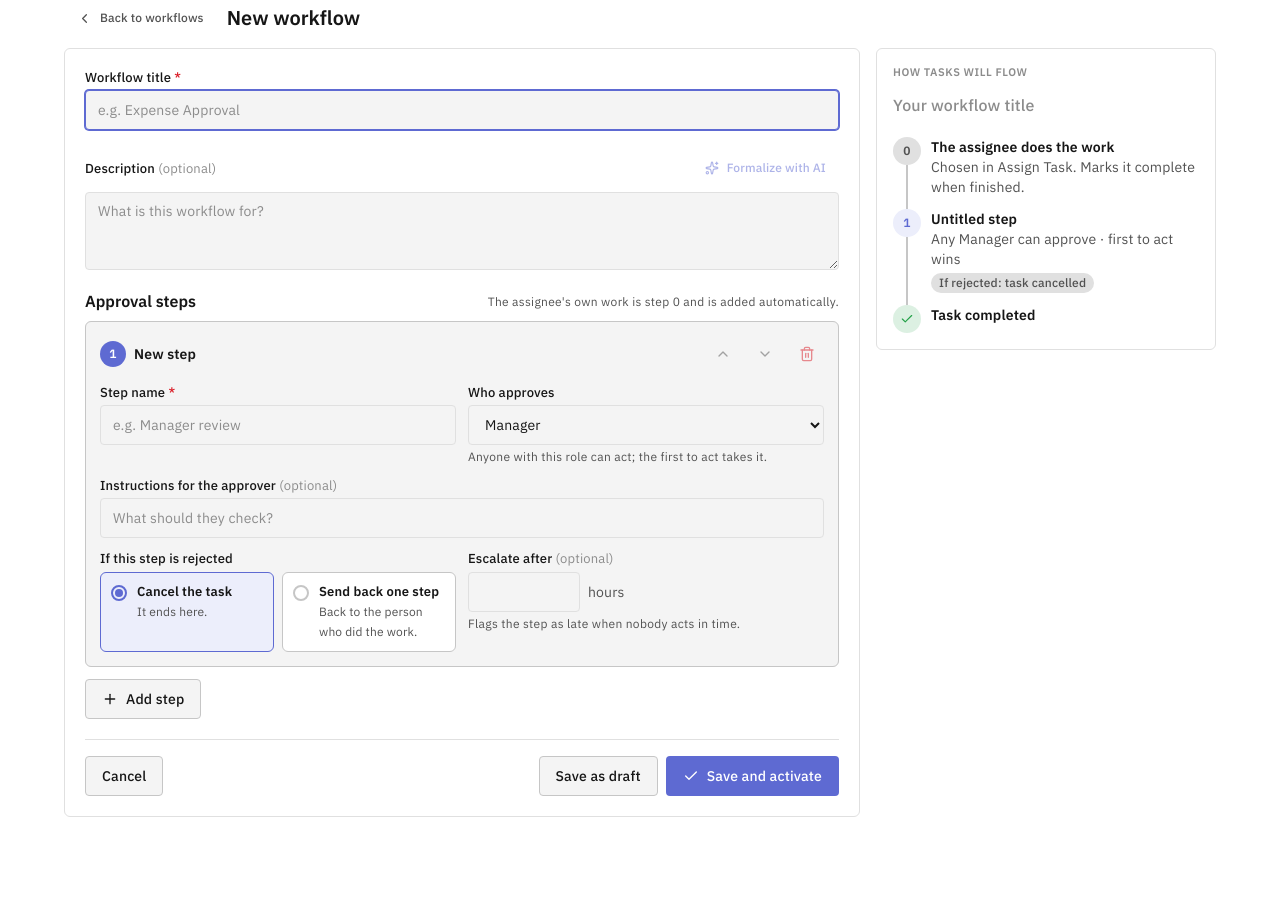
Test case: Workflow builder › TC-B02: add, reorder and remove steps; a new step takes focus in its name field
Expected: the form is shown, [64,48,860,817]
Type "First" into the field labelled "Step name *" at (278, 425), box [100,405,456,445]
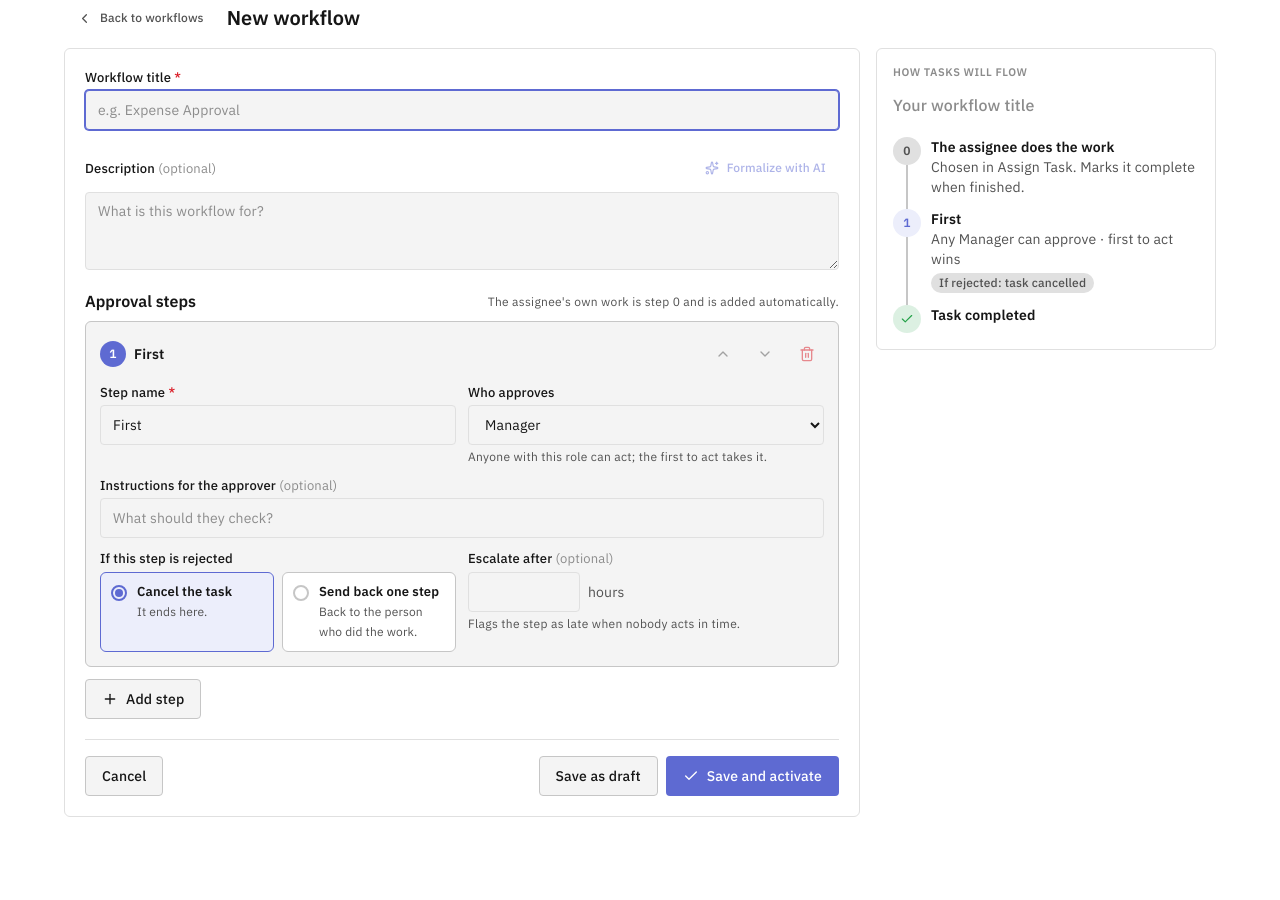
Click the button "Add step" at (143, 699), box [85,679,201,719]
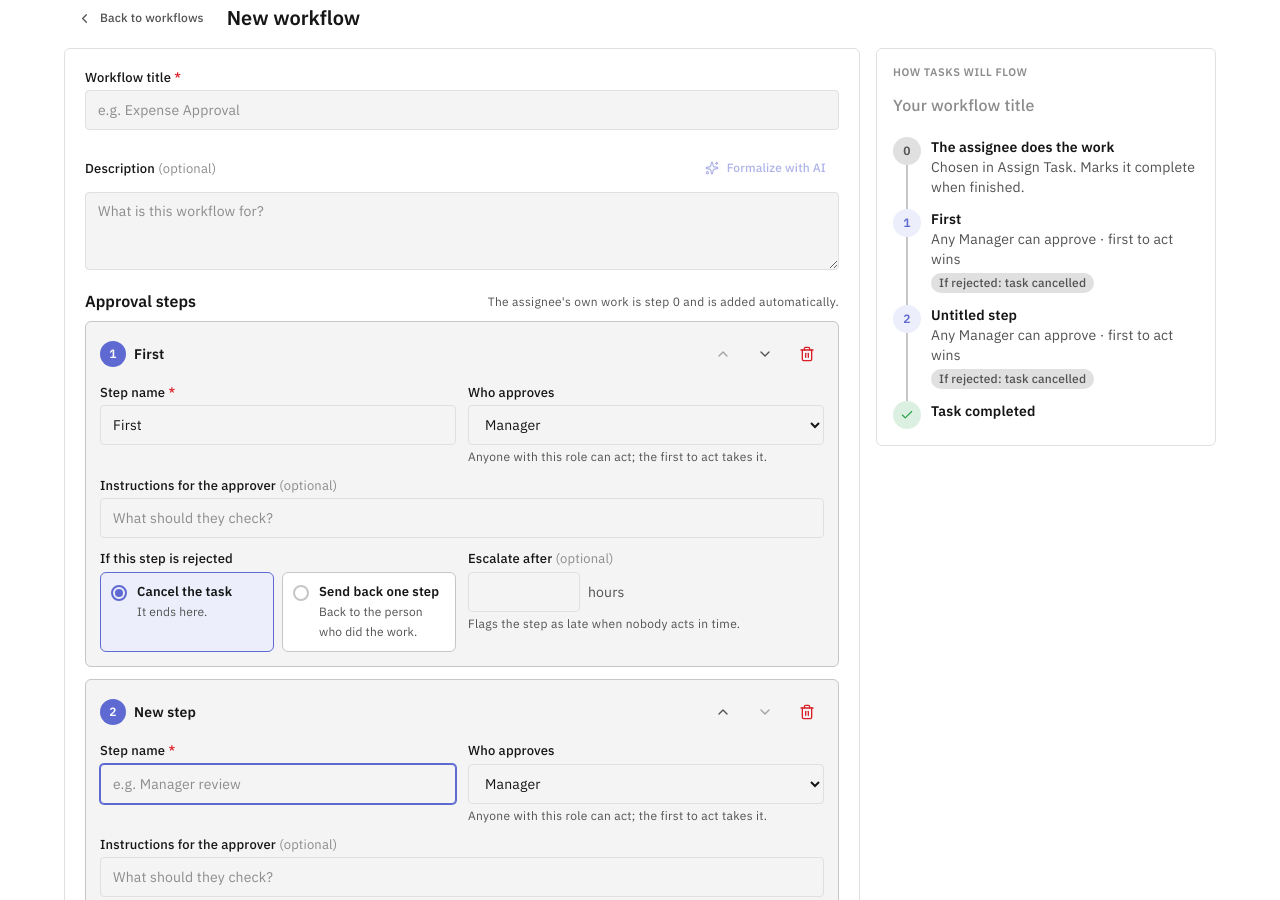
Now the number of fields labelled "Step name *" is 2
Now the 2nd dropdown labelled "Who approves" shows "Manager", box [468,764,824,804]
Type "Second" into the field labelled "Step name *" below "New step" at (278, 784), box [100,764,456,804]
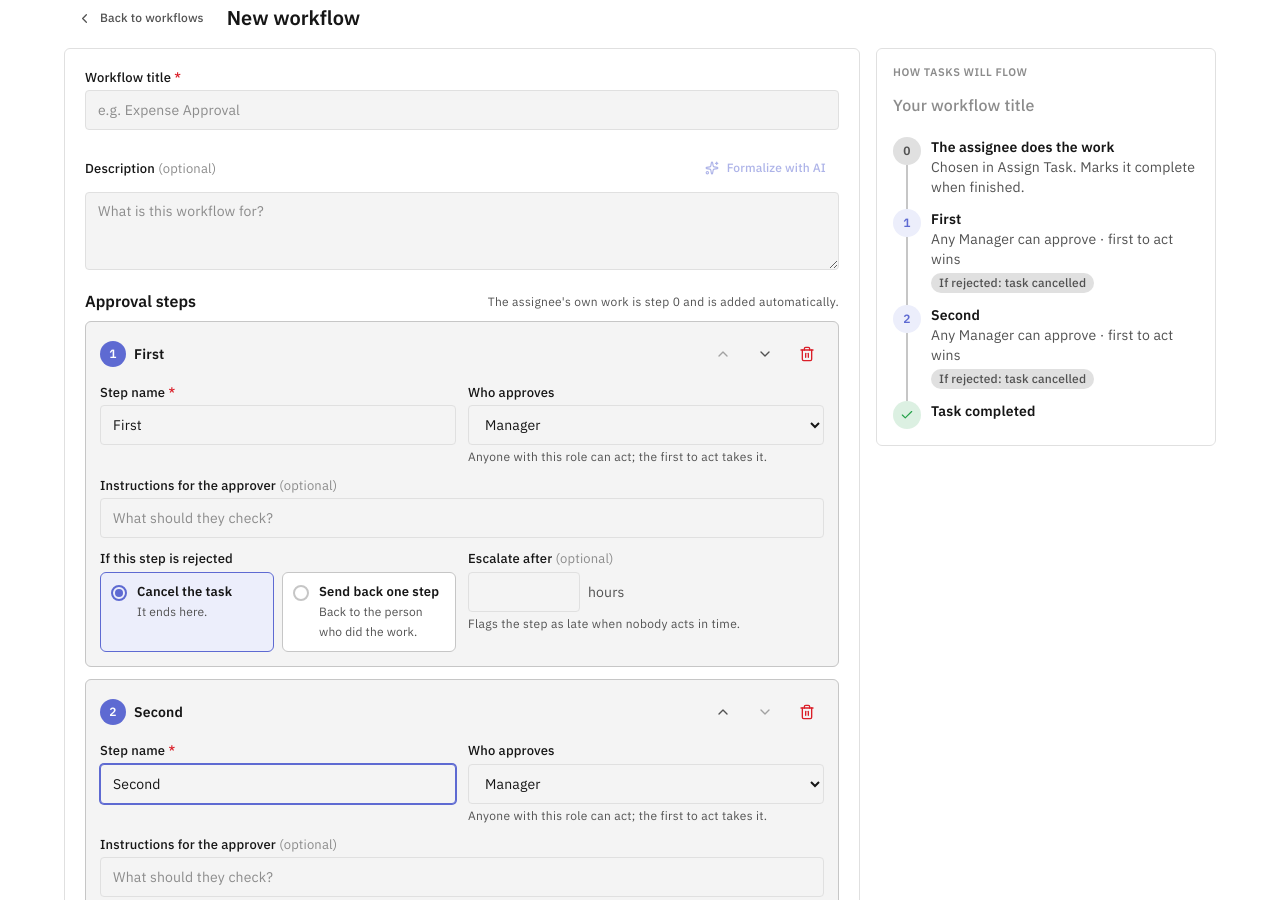
Expected: the button named "Move step 1 up" is disabled, [706,336,740,372]
Expected: the button named "Move step 2 down" is disabled, [748,694,782,730]
Click the button named "Move step 1 down" at (765, 354), box [748,336,782,372]
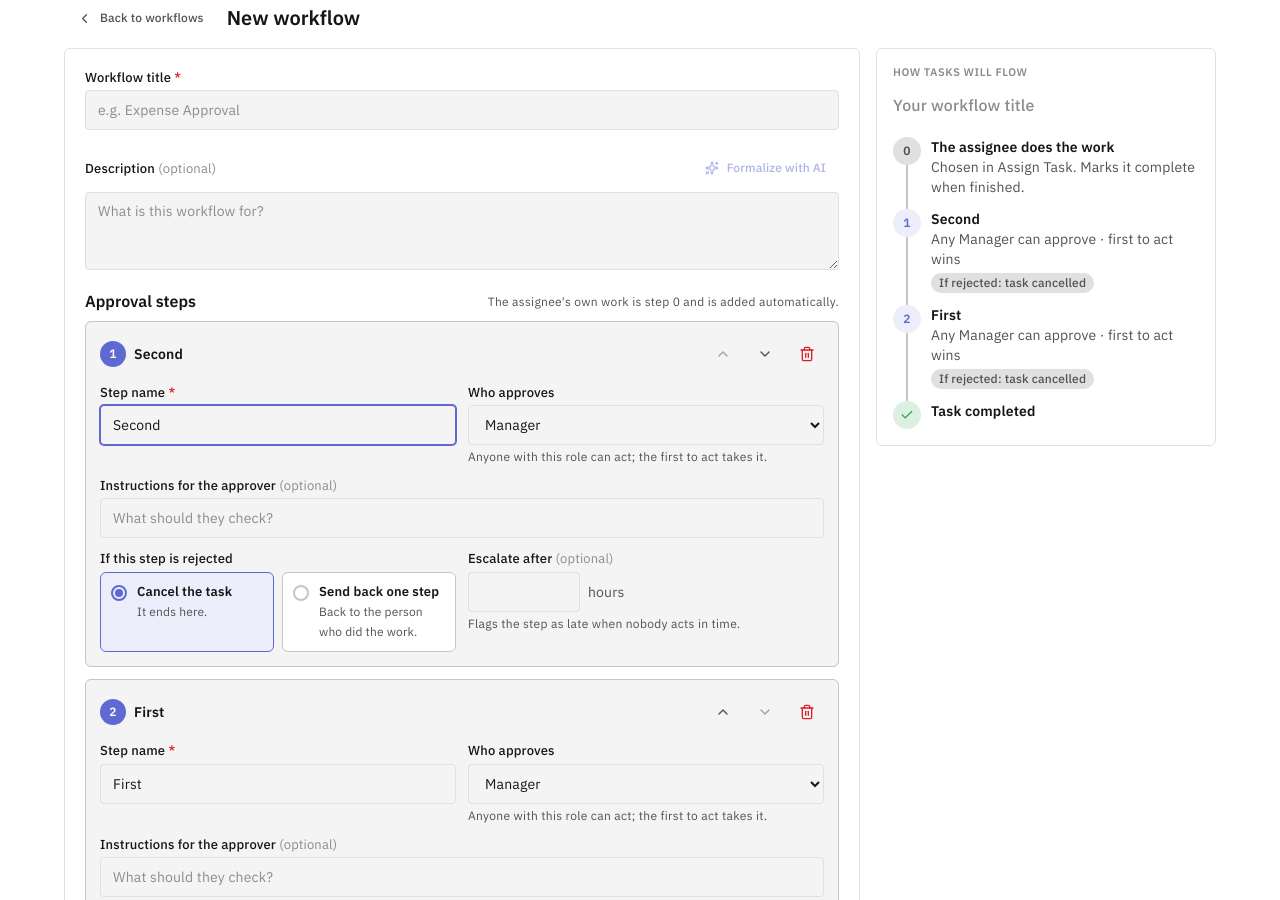
Click the button named "Move step 2 up" at (723, 712), box [706,694,740,730]
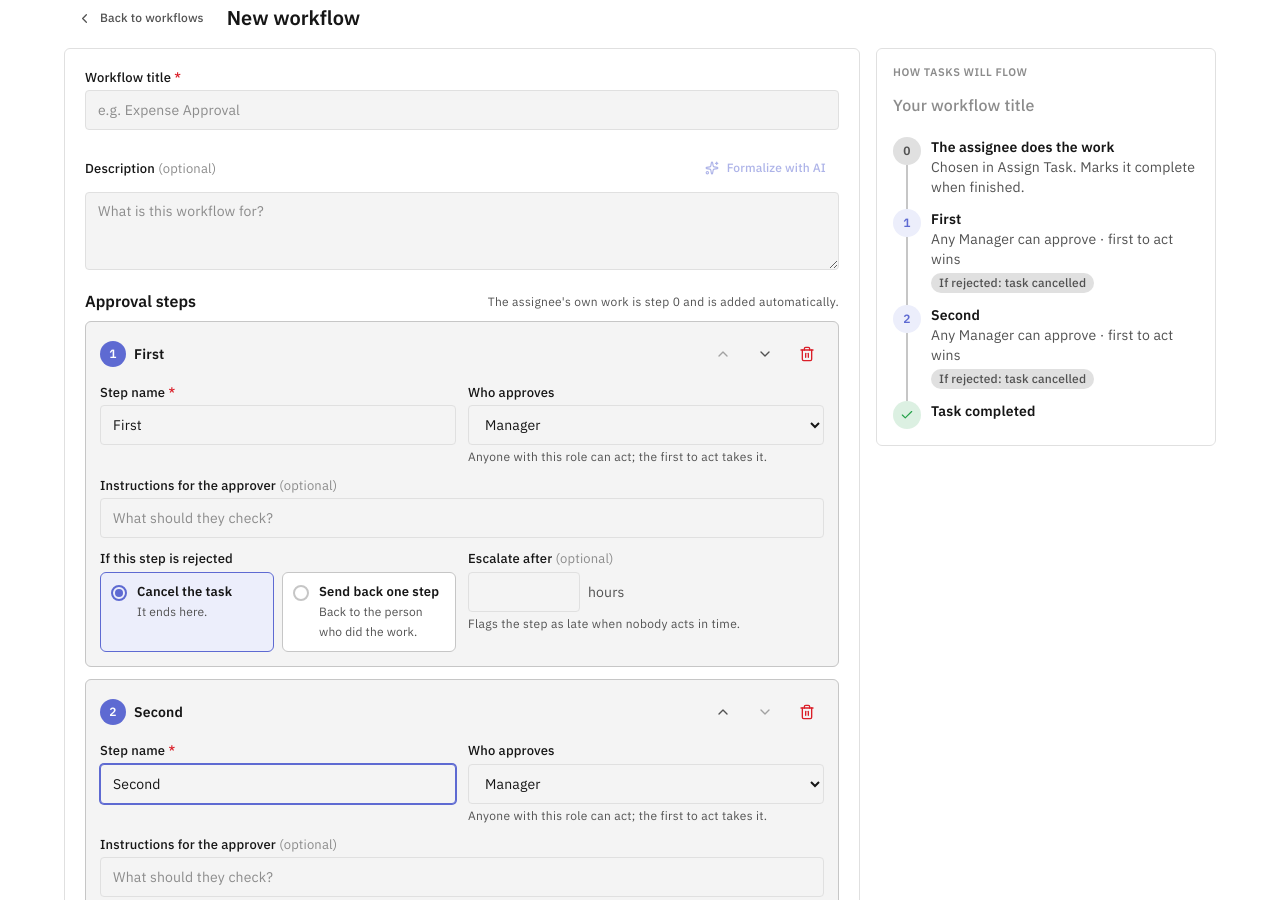
Click the button named "Remove step 1" at (807, 354), box [790,336,824,372]
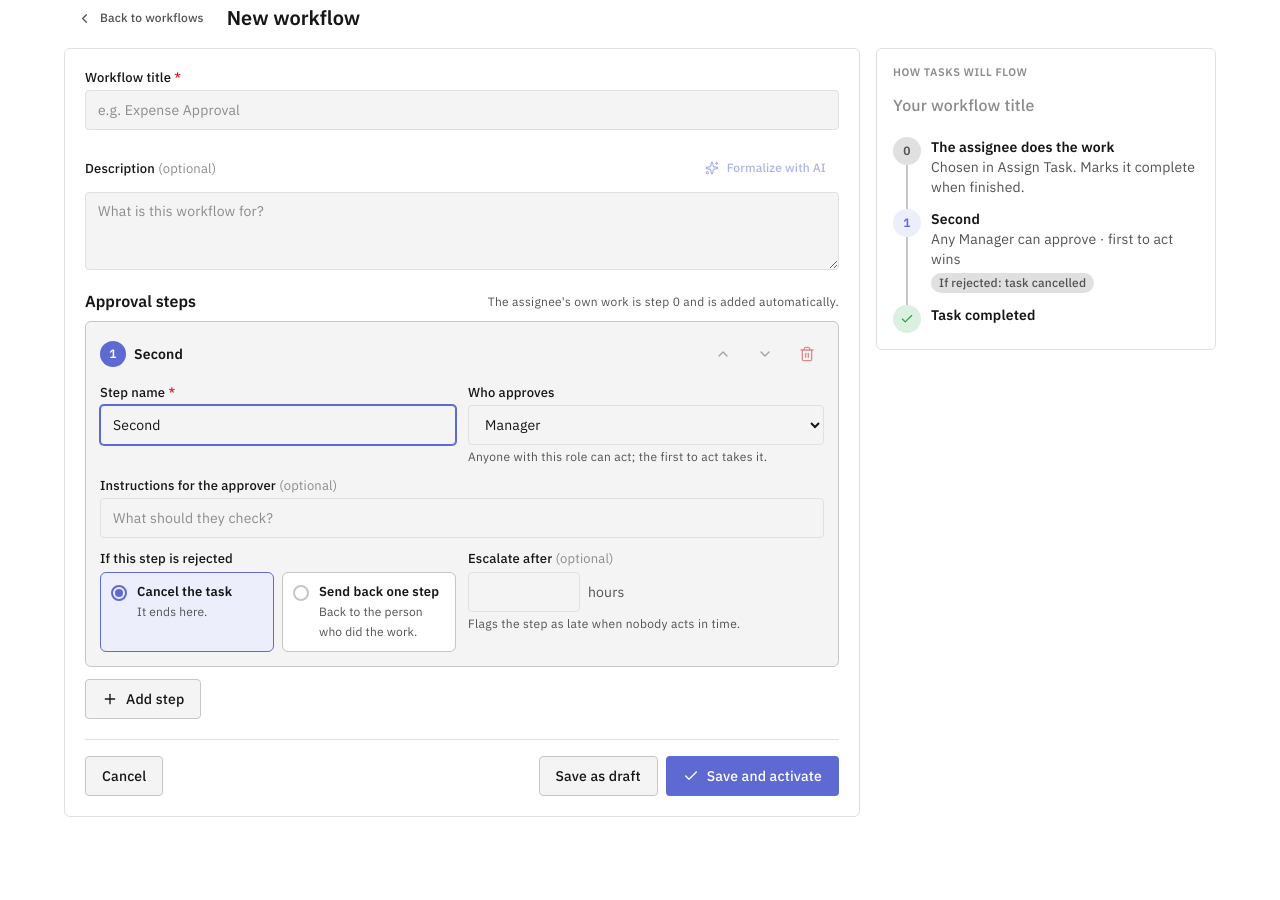
Now the button named "Remove step 1" is disabled, box [790,336,824,372]
